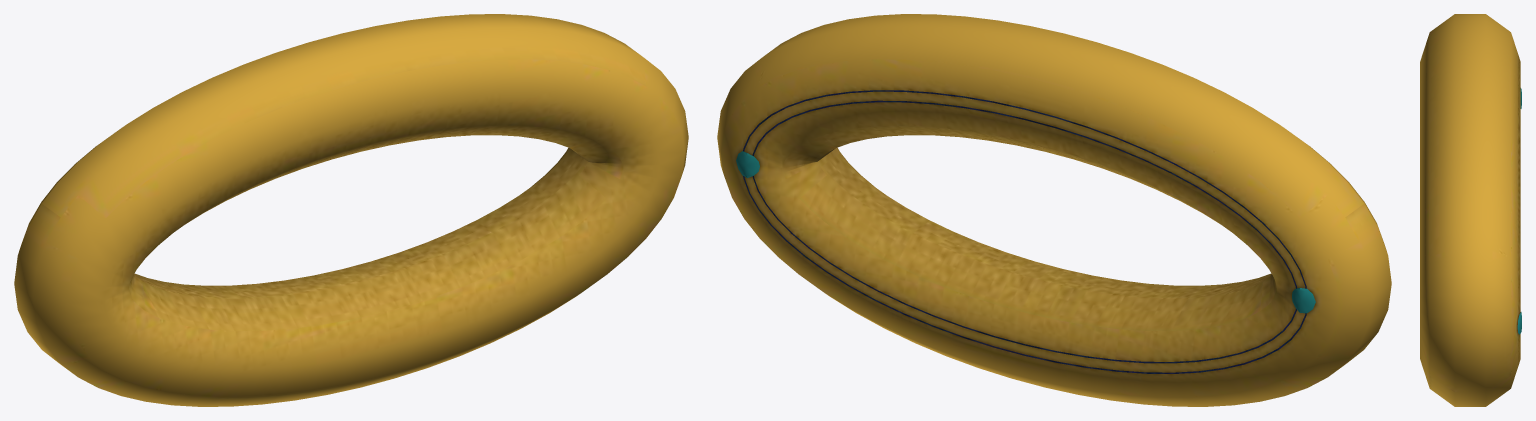
3 renders of one model, left to right at view 1: azimuth 30°, elevation 25°; view 2: azimuth 150°, elevation 25°; view 3: azimuth 270°, elevation 25°, orthographic. The views are drawn at different scales.
Visible parts, largest first — view 1: Royal_polished_gold; view 2: Royal_polished_gold, Lapis_lazuli_inlay, Turquoise_end_inlays; view 3: Royal_polished_gold, Turquoise_end_inlays.
Part boxes in pixels (x1=…): Royal_polished_gold: x1=14, y1=14, x2=688, y2=406; Royal_polished_gold: x1=717, y1=14, x2=1391, y2=406; Lapis_lazuli_inlay: x1=743, y1=90, x2=1306, y2=373; Turquoise_end_inlays: x1=736, y1=151, x2=1315, y2=313; Royal_polished_gold: x1=1420, y1=14, x2=1520, y2=406; Turquoise_end_inlays: x1=1517, y1=88, x2=1521, y2=334.
Bounding box in the file's own units: 0.8731 × 0.4331 × 0.1417.
Materials: 3 (3 with a texture image).
